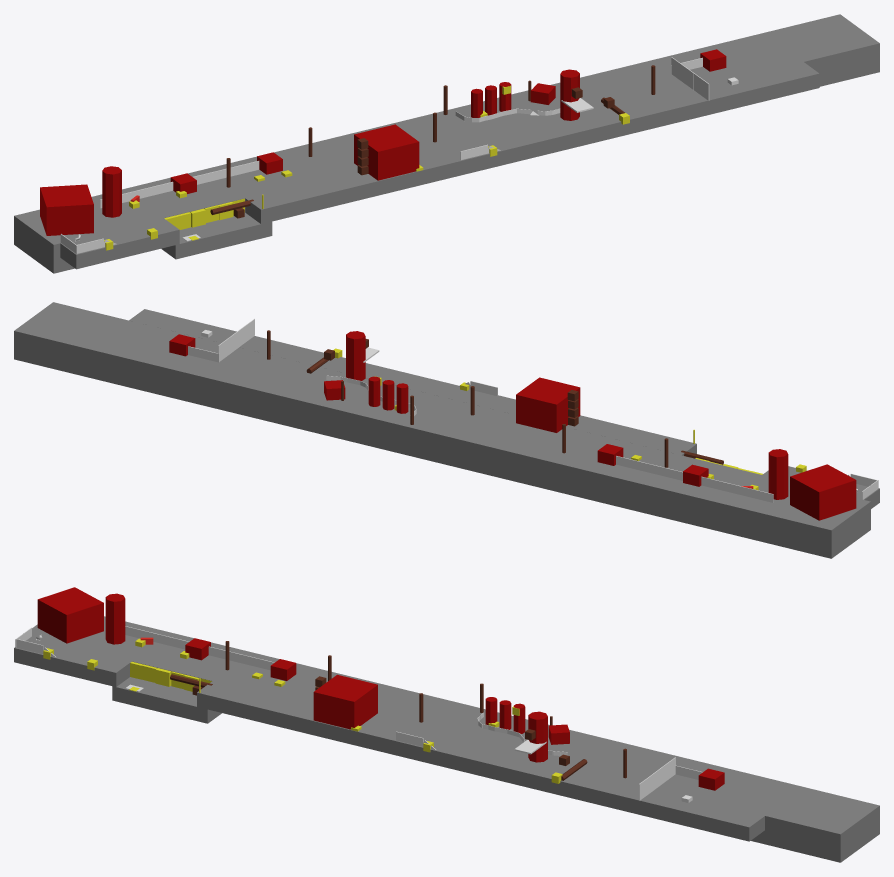
The model's file is map_farm.gltf.
3 renders of one model, top to bottom at view 1: azimuth 30°, elevation 25°; view 2: azimuth 150°, elevation 25°; view 3: azimuth 330°, elevation 25°, orthographic.
Visible parts, largest first — view 1: Ground.007, Ground.003, Ground, obstacle_barn, Barn, Ground.002, Silo, Silo.004; view 2: Ground.007, Ground.003, Barn, obstacle_barn, Silo, Silo.004; view 3: Ground.007, Ground.003, Ground, Barn, obstacle_barn, Ground.002, Silo, Silo.004.
Part boxes in pixels (x1,y1,x2,y2): Ground.007: (14,14,879,273); Ground.003: (245,62,819,224); Ground: (60,218,179,269); obstacle_barn: (354,124,419,180); Barn: (40,184,93,235); Ground.002: (161,212,272,259); Silo: (102,166,121,217); Silo.004: (560,69,579,120); Ground.007: (14,302,870,558); Ground.003: (129,309,696,455); Barn: (790,464,856,520); obstacle_barn: (516,377,580,432); Silo: (768,449,788,499); Silo.004: (346,331,365,380); Ground.007: (31,616,879,862); Ground.003: (197,681,764,841); Ground: (14,637,131,686); Barn: (37,587,103,643); obstacle_barn: (313,674,377,729); Ground.002: (112,677,221,723); Silo: (105,593,125,644); Silo.004: (528,711,547,762).
Size of the model in its own units: 120 by 10 by 14.41.
